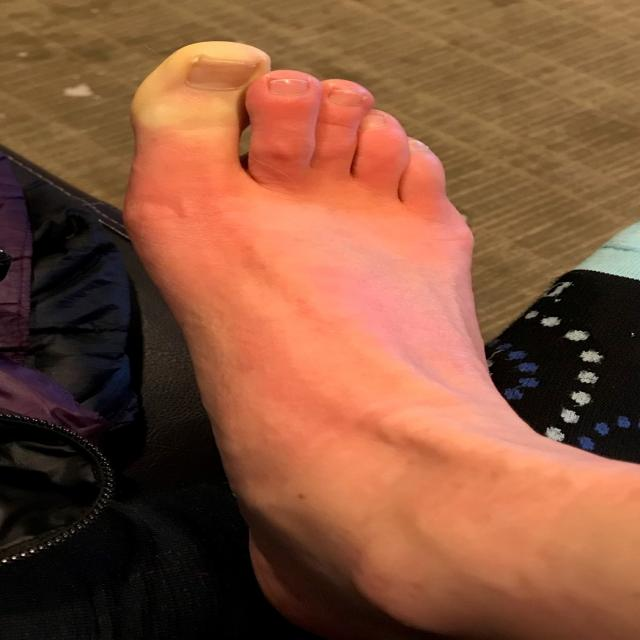raynauds: (125, 35, 270, 160)
